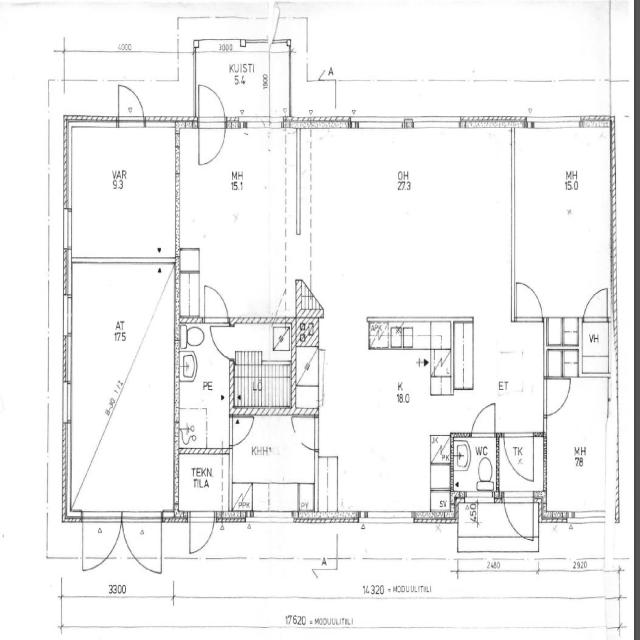door: (314, 130, 510, 321), (195, 80, 228, 166), (502, 432, 538, 484), (502, 491, 536, 543), (115, 81, 147, 130), (512, 278, 546, 324), (186, 508, 217, 558), (201, 281, 232, 328), (542, 374, 572, 418), (468, 398, 499, 439), (291, 412, 320, 453), (581, 285, 610, 324), (209, 320, 236, 361), (228, 410, 256, 449)
window: (349, 113, 406, 135), (525, 113, 583, 134), (364, 507, 416, 528), (410, 114, 462, 134), (60, 289, 76, 352), (250, 509, 296, 529), (59, 378, 75, 428), (566, 508, 603, 528), (236, 114, 270, 135), (61, 205, 75, 255), (143, 114, 176, 132)
zone: (311, 127, 511, 322), (179, 130, 288, 324), (512, 126, 613, 318), (66, 122, 178, 264), (543, 372, 610, 518), (230, 413, 319, 518), (176, 321, 232, 451), (232, 324, 292, 416), (451, 434, 498, 496), (502, 430, 537, 484), (580, 319, 610, 377)
